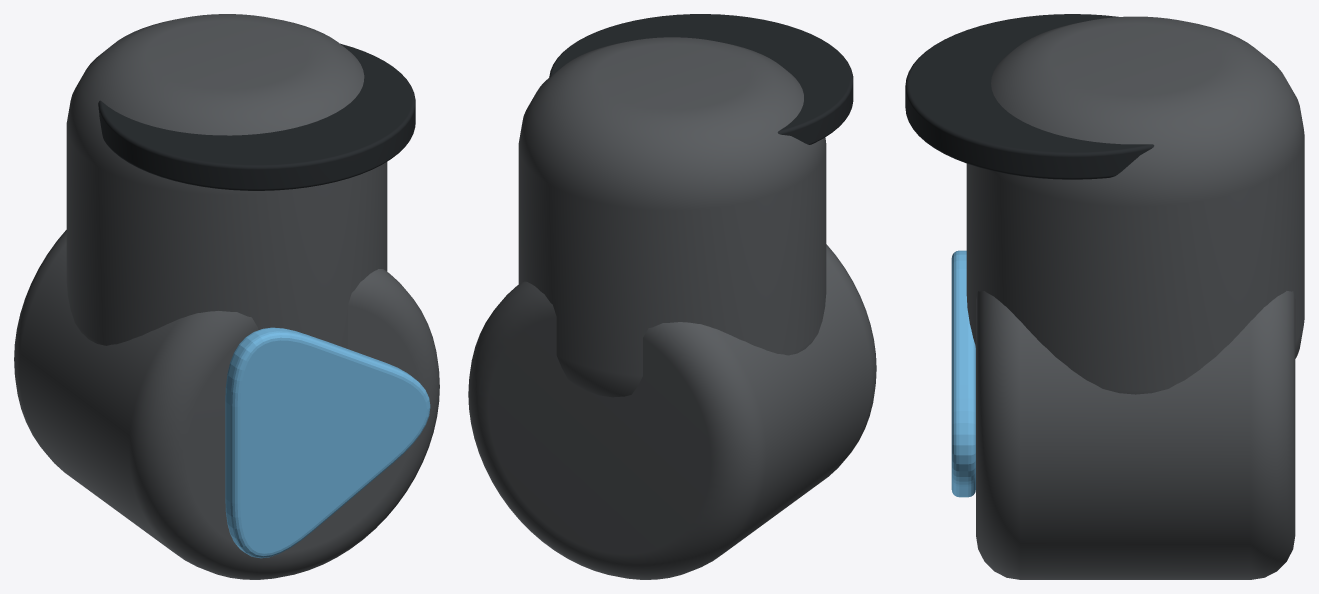
File: wrist_2_link.obj
The picture shows the model from 3 angles, left to right: view 1: azimuth 30°, elevation 25°; view 2: azimuth 150°, elevation 25°; view 3: azimuth 270°, elevation 25°; orthographic projection. The views are drawn at different scales.
Parts seen in each view (by area): view 1: tool_bridge, wrist_axis, wrist_cap, tool_bearing_seal; view 2: tool_bridge, wrist_axis, tool_bearing_seal; view 3: tool_bridge, wrist_axis, tool_bearing_seal, wrist_cap.
Boxes of the visible parts, x1,y1,x2,y2 form: tool_bridge: (66,14,387,348); wrist_axis: (14,230,439,579); wrist_cap: (225,327,430,558); tool_bearing_seal: (98,43,415,190); tool_bridge: (518,37,826,397); wrist_axis: (468,244,876,579); tool_bearing_seal: (549,14,853,144); tool_bridge: (966,16,1304,394); wrist_axis: (976,291,1295,579); tool_bearing_seal: (905,14,1154,179); wrist_cap: (951,250,975,497).
Size of the model in its own units: 0.1 by 0.1494 by 0.1075.
